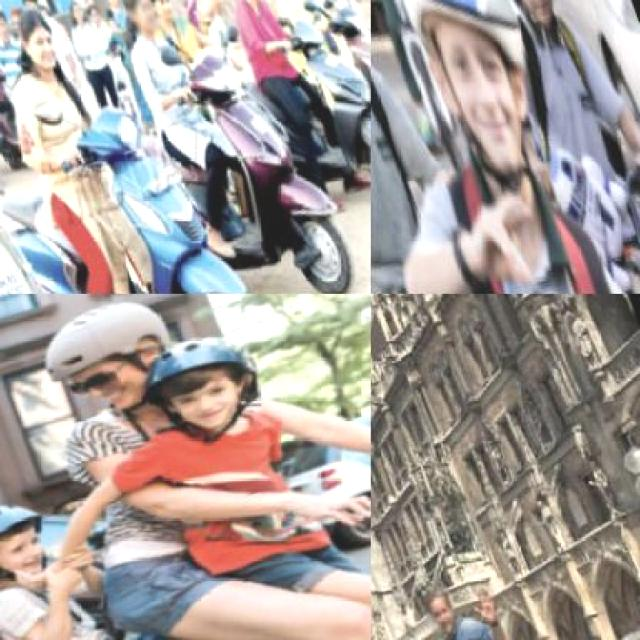With Helmet: (371, 0, 563, 171), (23, 294, 186, 411), (131, 317, 267, 429), (0, 488, 57, 608)
Without Helmet: (3, 0, 69, 66), (414, 578, 464, 638), (115, 0, 164, 38)
